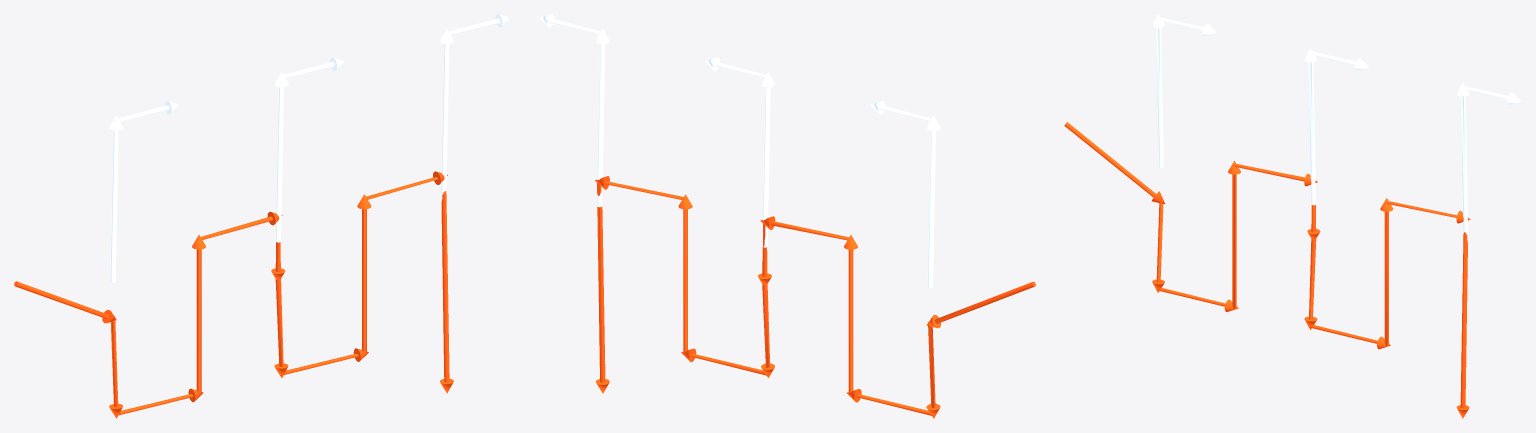
Rendered from multi_stage_flash_vessel_flow.glb.
3 views of the same model, side by side, from view 1: azimuth 30°, elevation 25°; view 2: azimuth 150°, elevation 25°; view 3: azimuth 330°, elevation 25° (orthographic). The views are drawn at different scales.
Visible parts, largest first — view 1: slurry, vapour_2, vapour_1, vapour_3; view 2: slurry, vapour_1, vapour_3, vapour_2; view 3: slurry, vapour_2, vapour_1, vapour_3.
Part boxes in pixels (x1=…): slurry: x1=14, y1=171, x2=453, y2=418; vapour_2: x1=274, y1=57, x2=344, y2=242; vapour_1: x1=109, y1=101, x2=179, y2=282; vapour_3: x1=440, y1=14, x2=510, y2=201; slurry: x1=595, y1=176, x2=1035, y2=418; vapour_1: x1=870, y1=101, x2=940, y2=287; vapour_3: x1=539, y1=14, x2=609, y2=207; vapour_2: x1=705, y1=57, x2=774, y2=247; slurry: x1=1064, y1=122, x2=1470, y2=418; vapour_2: x1=1304, y1=48, x2=1368, y2=205; vapour_1: x1=1152, y1=14, x2=1216, y2=167; vapour_3: x1=1456, y1=83, x2=1521, y2=241.
Size of the model in its own units: 4.2 by 2.97 by 0.154.
